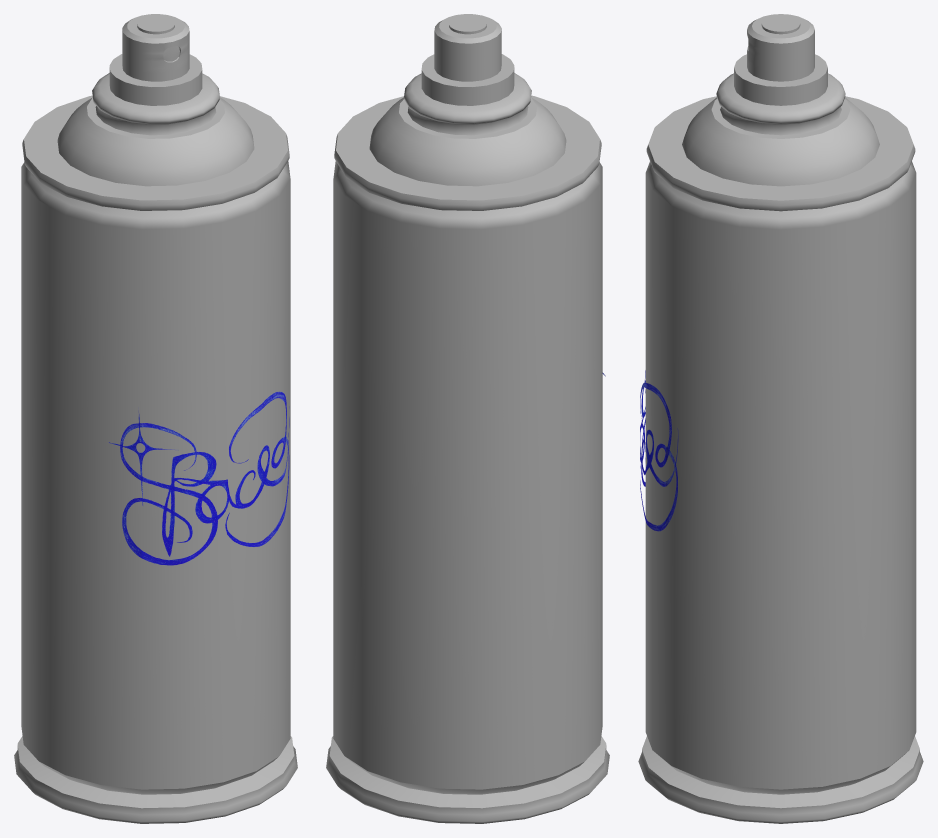
Rendered from spraycan2.glb.
The picture shows the model from 3 angles, left to right: view 1: azimuth 30°, elevation 25°; view 2: azimuth 150°, elevation 25°; view 3: azimuth 270°, elevation 25°; orthographic projection.
Visible parts, largest first — view 1: pCylinder1, logop; view 2: pCylinder1; view 3: pCylinder1, logop.
Boxes of the visible parts, x1,y1,x2,y2 form: pCylinder1: (14,14,297,823); logop: (108,391,289,565); pCylinder1: (326,14,609,823); pCylinder1: (638,14,923,823); logop: (640,370,678,531).
Bounding box in the file's own units: 3.6 × 10.34 × 3.6.
3 materials, 1 textured.
